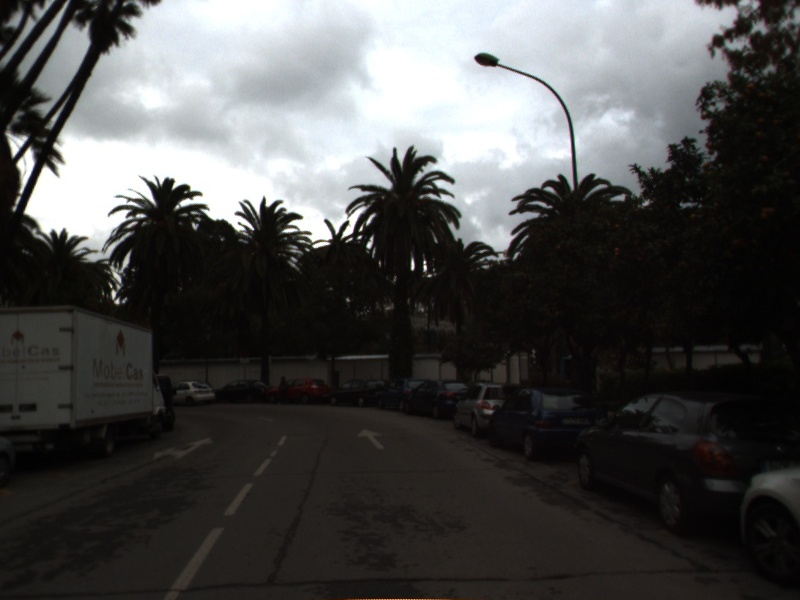STRAIGHT: (355, 426, 388, 451)
STRAIGHT_LEFT: (151, 434, 217, 463)
